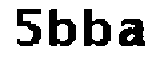5: (14, 5, 44, 49)
a: (119, 17, 149, 48)
b: (82, 6, 114, 50), (47, 5, 78, 50)
